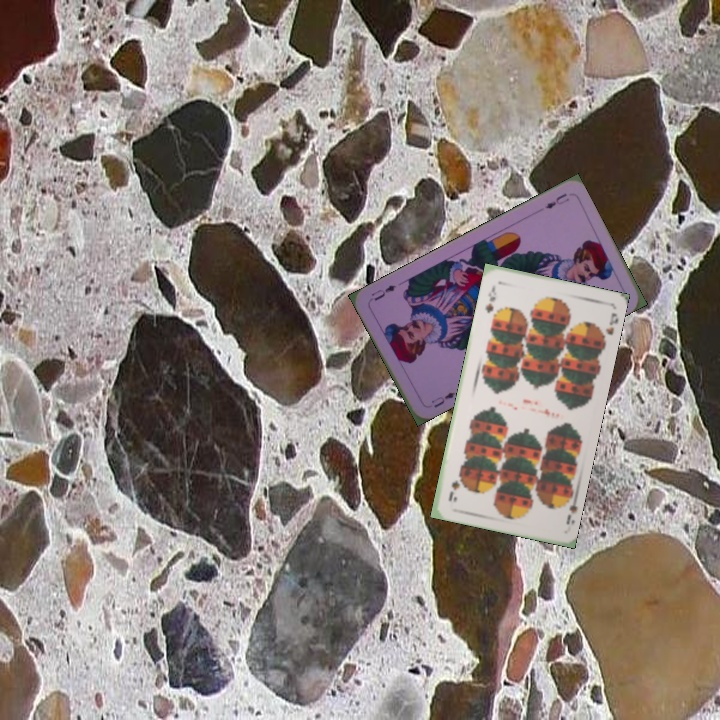EU: (427, 388, 458, 410), (541, 189, 572, 211)
S9: (561, 490, 581, 527), (481, 281, 499, 316)
